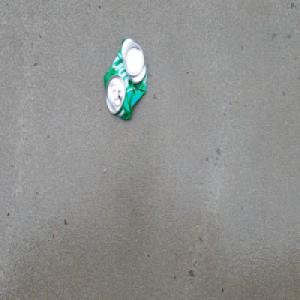SodaCan: (102, 35, 148, 122)
